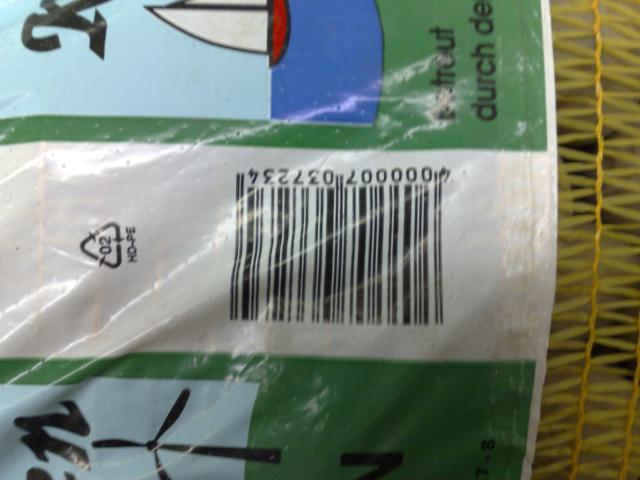Barkod: (230, 185, 446, 325)
